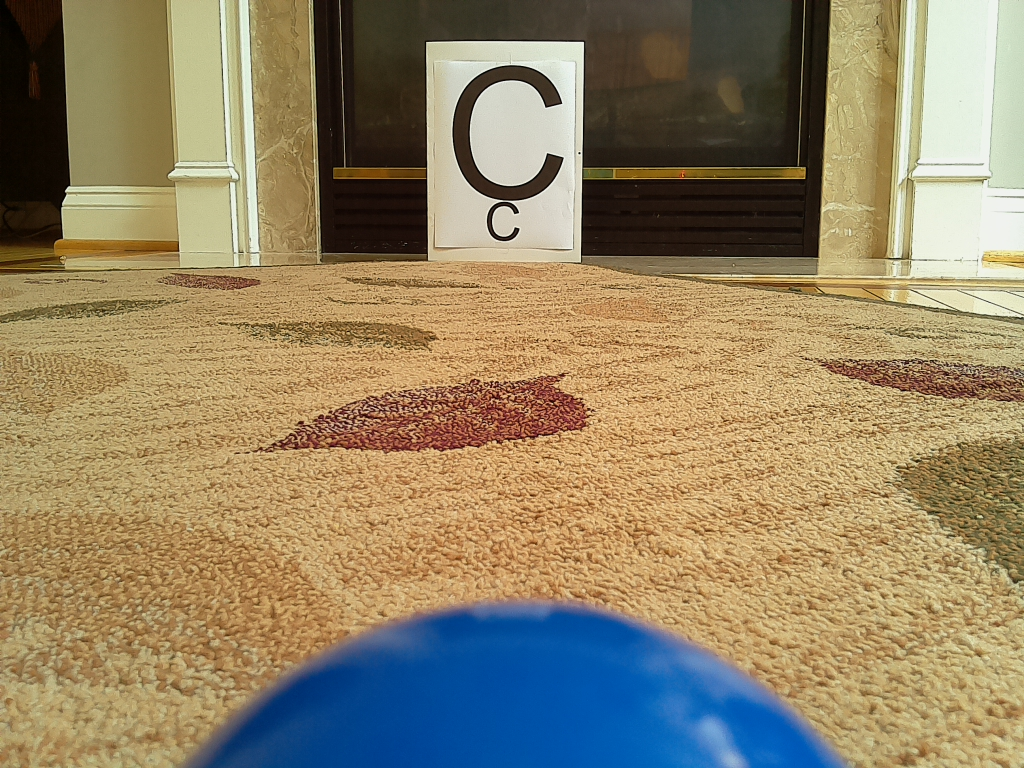letter: (450, 65, 563, 200)
